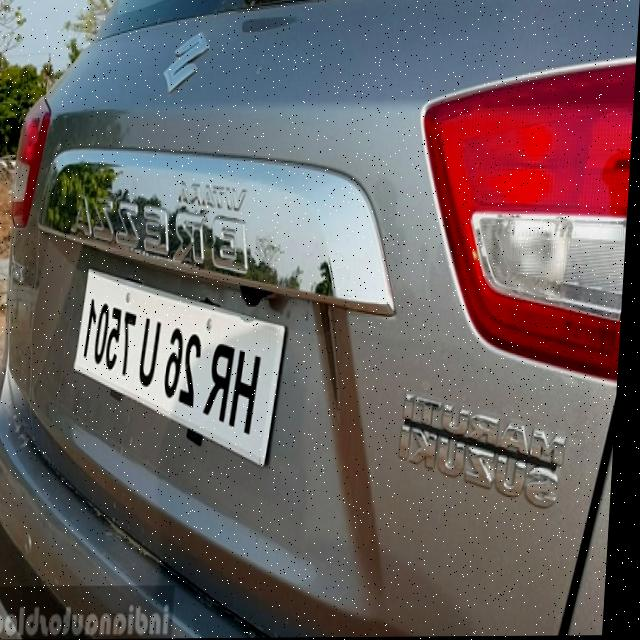plate: (69, 267, 294, 486)
